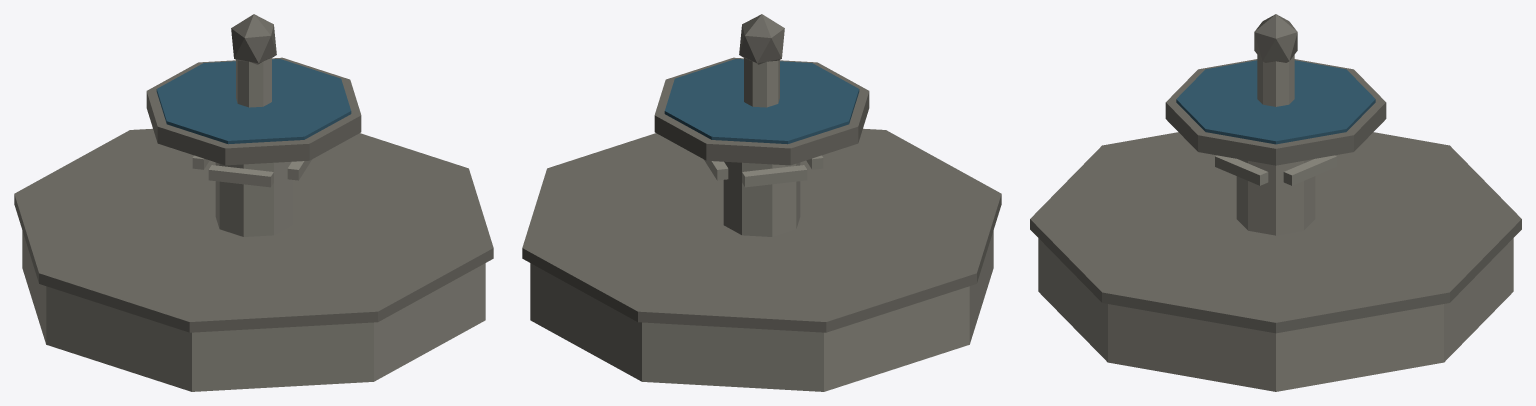
Rendered from fountain.glb.
The picture shows the model from 3 angles, left to right: view 1: azimuth 30°, elevation 25°; view 2: azimuth 150°, elevation 25°; view 3: azimuth 270°, elevation 25°; orthographic projection.
Parts seen in each view (by area): view 1: fountain; view 2: fountain; view 3: fountain.
Part boxes in pixels (<box>): fountain: <box>14,14,493,391</box>; fountain: <box>522,14,1001,391</box>; fountain: <box>1030,14,1521,391</box>.
Size of the model in its own units: 4.24 by 2.64 by 4.24.
